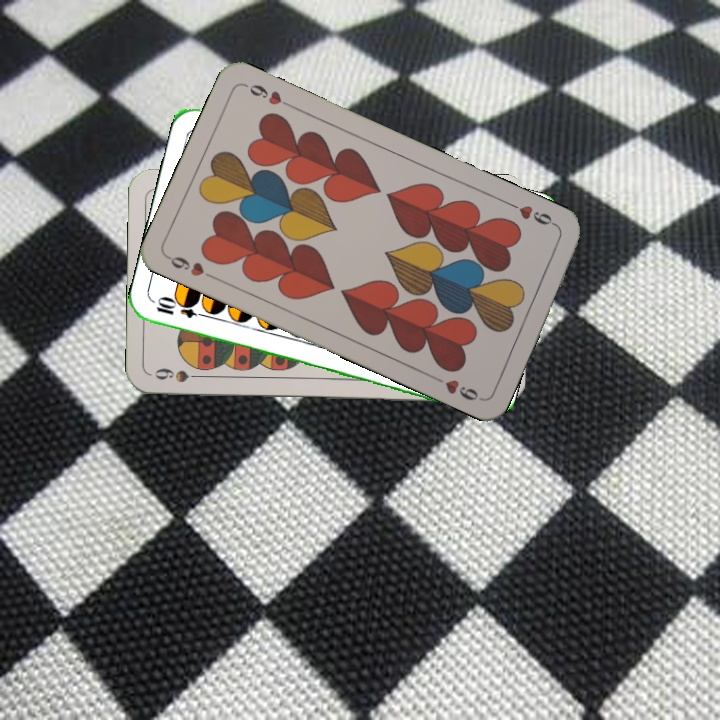E10: (152, 295, 211, 321)
H9: (505, 198, 561, 231), (163, 252, 219, 282)
S9: (151, 364, 209, 385)
